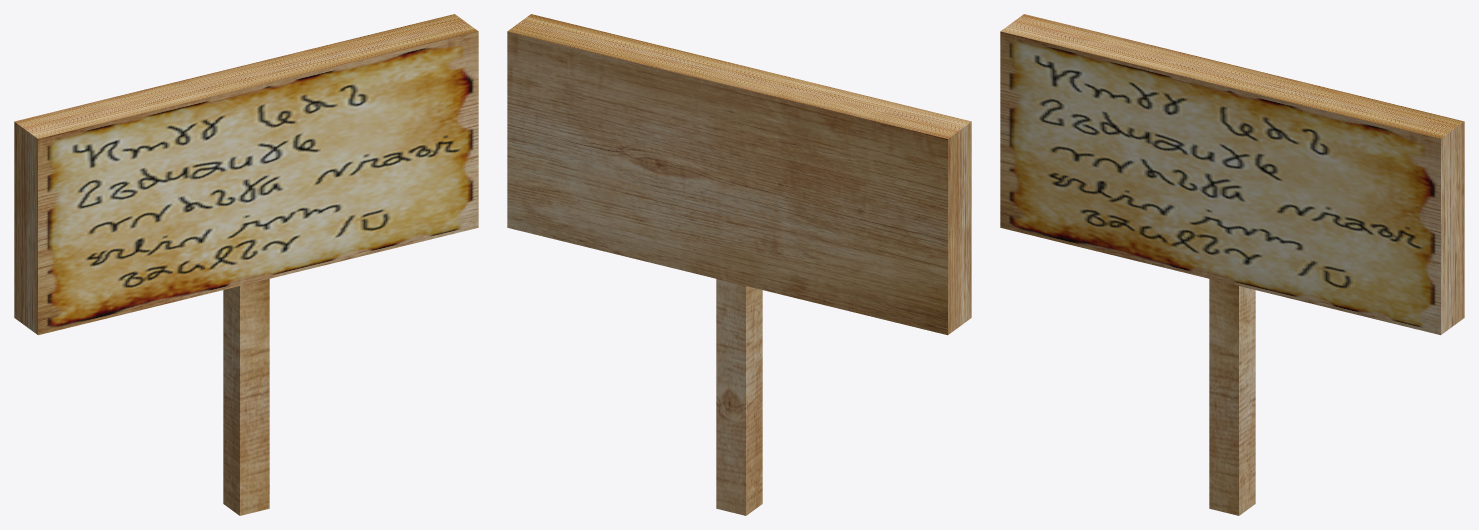
The model's file is Sign.FBX.
3 renders of one model, left to right at view 1: azimuth 30°, elevation 25°; view 2: azimuth 150°, elevation 25°; view 3: azimuth 330°, elevation 25°, orthographic.
Parts seen in each view (by area): view 1: Sign; view 2: Sign; view 3: Sign.
Part boxes in pixels (bbox=[...]): Sign: bbox=[14, 14, 478, 515]; Sign: bbox=[507, 14, 971, 515]; Sign: bbox=[1000, 14, 1464, 515].
Size of the model in its own units: 14.92 by 13.91 by 1.4.
